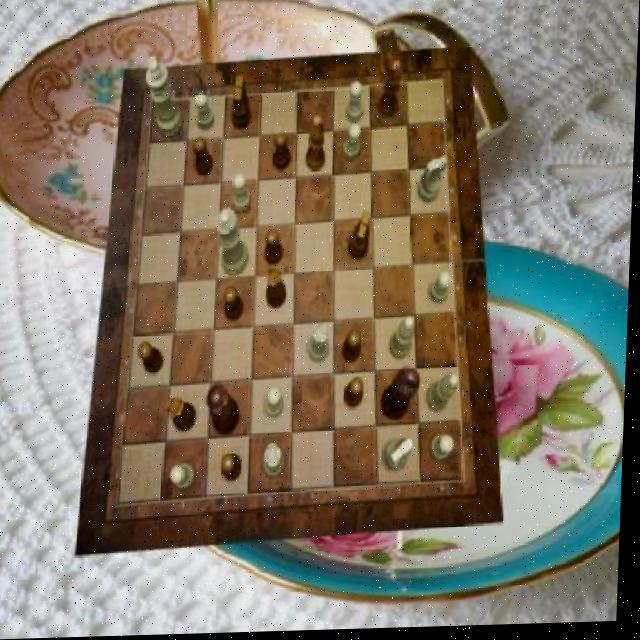bishop: (379, 61, 403, 119), (306, 117, 327, 173)
black-bishop: (384, 368, 423, 423)
black-king: (348, 213, 372, 262), (233, 77, 253, 131)
black-knight: (140, 342, 165, 375), (193, 138, 214, 176), (224, 286, 245, 321), (273, 133, 291, 172), (344, 331, 364, 366), (347, 379, 367, 410), (267, 232, 285, 266), (224, 454, 245, 482)
black-pawn: (208, 385, 243, 438)
black-queen: (168, 397, 199, 433), (268, 268, 289, 310)
black-rook: (427, 375, 461, 414), (391, 318, 417, 361)
white-bishop: (145, 54, 185, 137)
white-king: (418, 159, 449, 206), (387, 441, 418, 474)
white-knight: (195, 94, 216, 132), (430, 274, 453, 307), (234, 176, 253, 215), (348, 85, 365, 126), (344, 125, 362, 163), (173, 464, 199, 490), (433, 438, 458, 464), (268, 389, 287, 420)
white-pawn: (215, 209, 252, 276)
white-queen: (310, 325, 332, 365), (265, 444, 289, 479)
